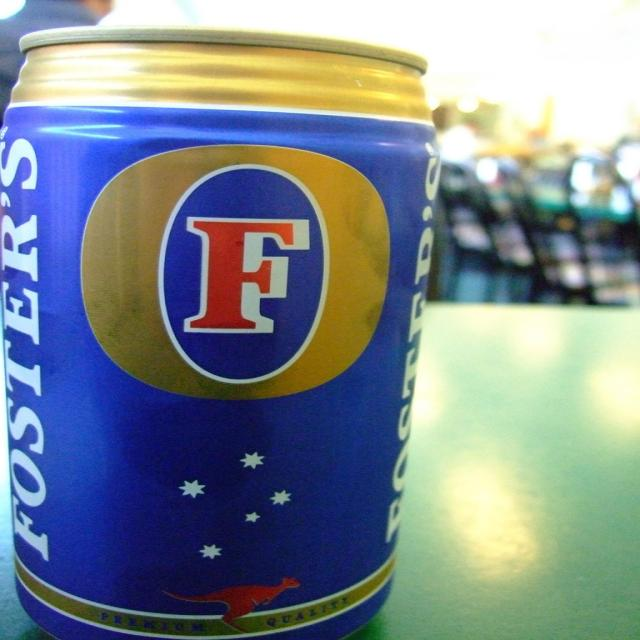fosters: (76, 138, 399, 406)
